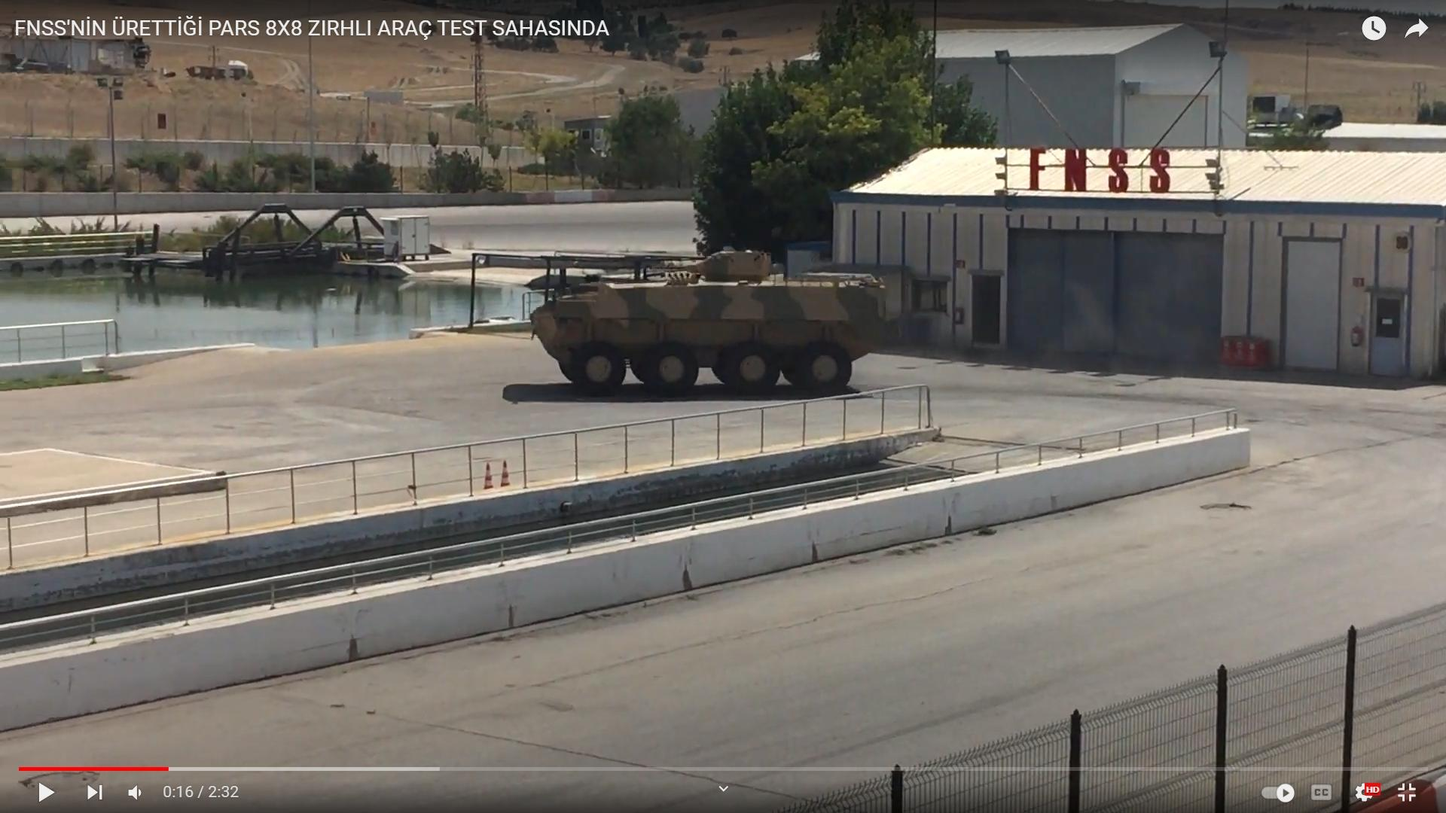armored_car: (529, 268, 885, 399)
